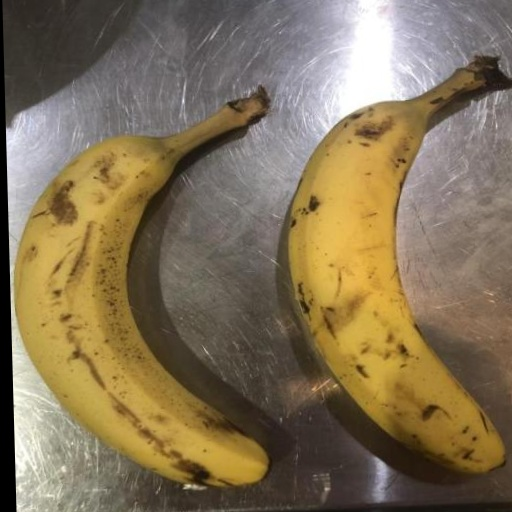fruit: (14, 87, 268, 486), (288, 57, 512, 472)
